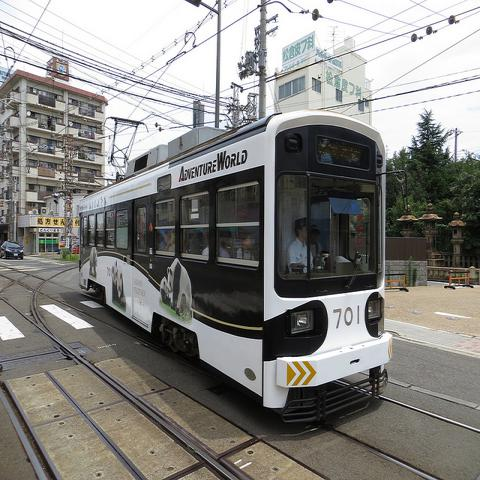car: (0, 241, 24, 259)
